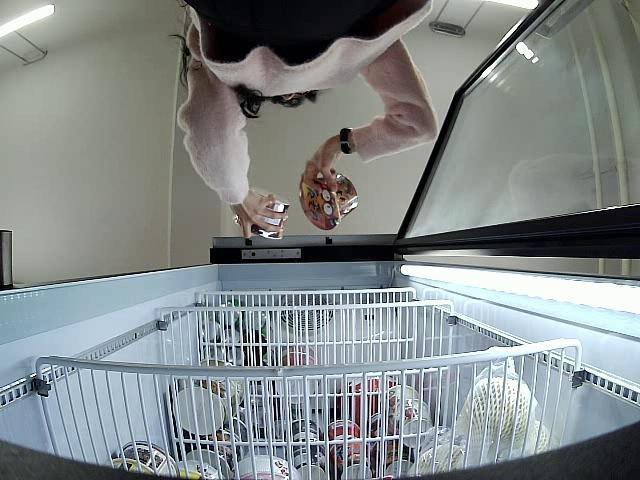05_nuguri_L: (300, 173, 358, 232), (232, 202, 290, 238)
